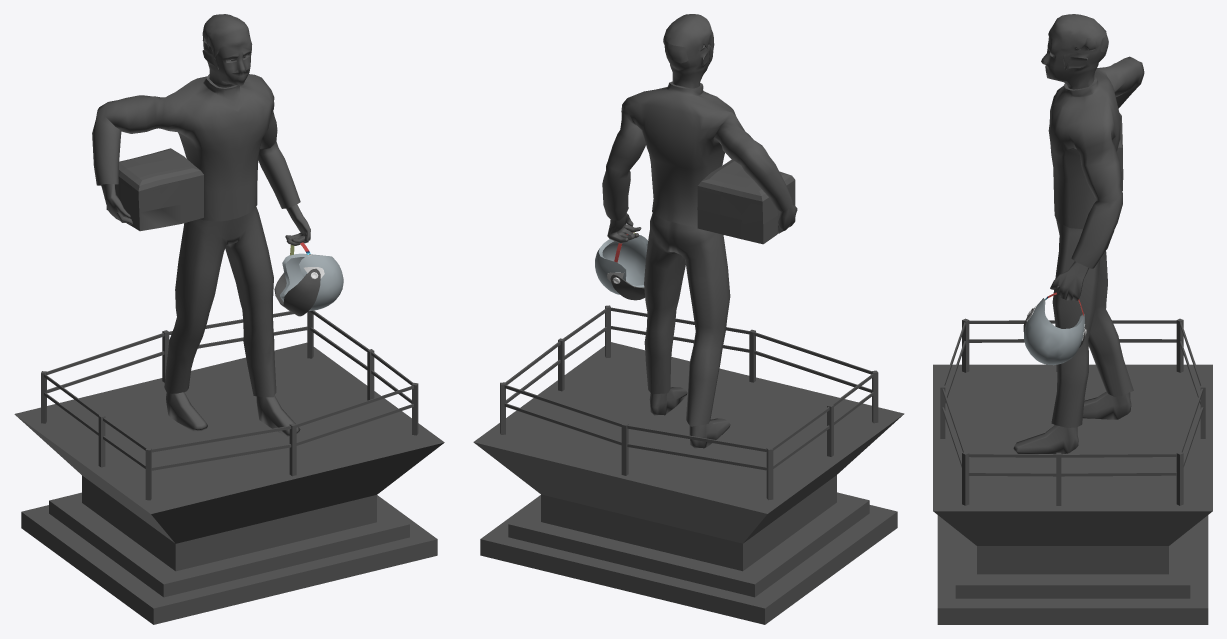
Rendered from patung1.fbx.
3 views of the same model, side by side, from view 1: azimuth 30°, elevation 25°; view 2: azimuth 150°, elevation 25°; view 3: azimuth 270°, elevation 25° (orthographic). The views are drawn at different scales.
Parts seen in each view (by area): view 1: Cube.001; view 2: Cube.001; view 3: Cube.001.
Boxes of the visible parts, x1=… form: Cube.001: x1=14, y1=14, x2=444, y2=624; Cube.001: x1=473, y1=14, x2=904, y2=624; Cube.001: x1=933, y1=14, x2=1212, y2=624.
Size of the model in its own units: 2358 by 4023 by 1902.
